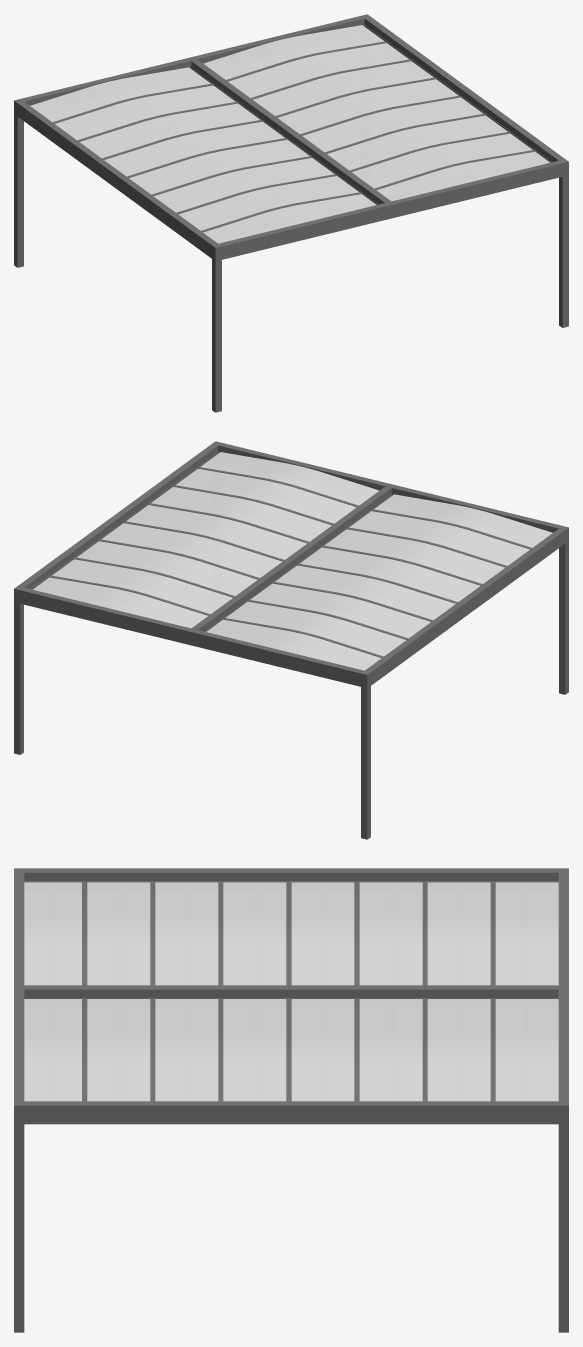
The model's file is hyrcaryaad-h24-w54-d53_matlightgrey.fbx.
The picture shows the model from 3 angles, top to bottom: view 1: azimuth 30°, elevation 25°; view 2: azimuth 150°, elevation 25°; view 3: azimuth 270°, elevation 25°; orthographic projection. The views are drawn at different scales.
Visible parts, largest first — view 1: hyrcaryaad-h24-w54-d53-matrightgray; view 2: hyrcaryaad-h24-w54-d53-matrightgray; view 3: hyrcaryaad-h24-w54-d53-matrightgray.
Boxes of the visible parts, x1=… form: hyrcaryaad-h24-w54-d53-matrightgray: x1=14, y1=14, x2=568, y2=412; hyrcaryaad-h24-w54-d53-matrightgray: x1=14, y1=441, x2=568, y2=839; hyrcaryaad-h24-w54-d53-matrightgray: x1=14, y1=868, x2=568, y2=1332.
Size of the model in its own units: 550 by 245 by 543.
Materials: 2 (1 with a texture image).
